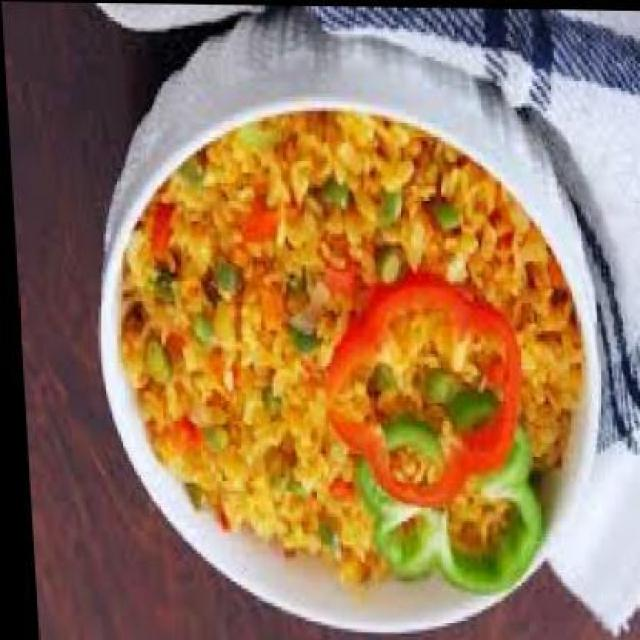poha: (105, 105, 588, 592)
